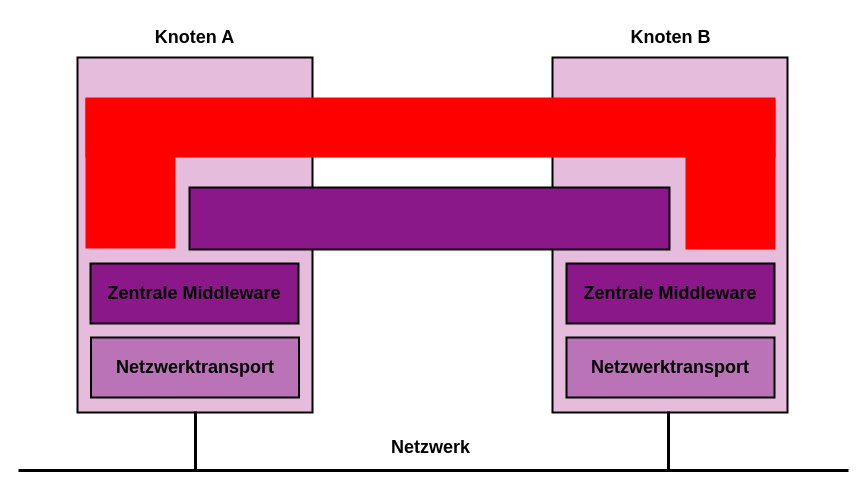
This 868x491 diagram has some shape labels left out. The centre of each missing label's shape, as x and y in pixels:
"Applikationen" belongs at point 430,127.
"Middleware-Dienste" belongs at point 429,218.
